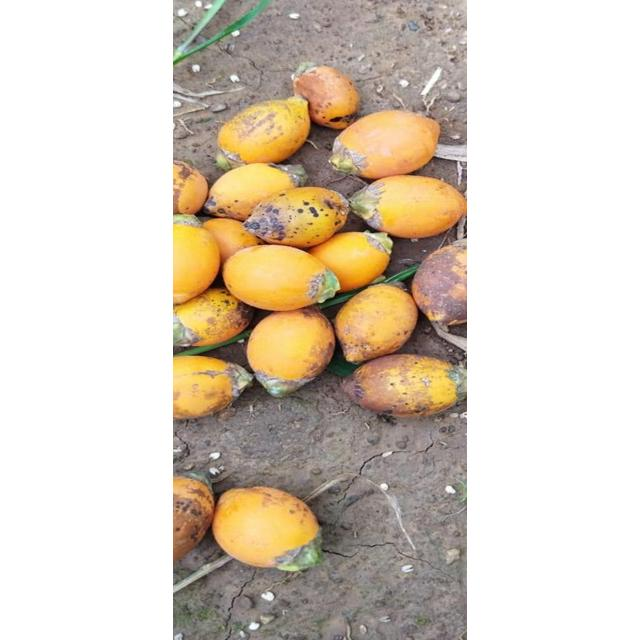damaged: (212, 486, 324, 570), (245, 308, 337, 394), (328, 111, 442, 179), (308, 230, 392, 294), (410, 241, 464, 329), (174, 473, 216, 572)
good: (341, 354, 467, 418), (222, 244, 338, 312), (346, 176, 466, 238), (240, 186, 350, 248), (334, 284, 418, 362), (216, 98, 310, 166), (204, 163, 306, 221), (173, 354, 253, 420), (174, 286, 256, 348), (292, 65, 360, 129), (174, 219, 222, 305), (202, 218, 264, 270), (174, 158, 210, 218)
